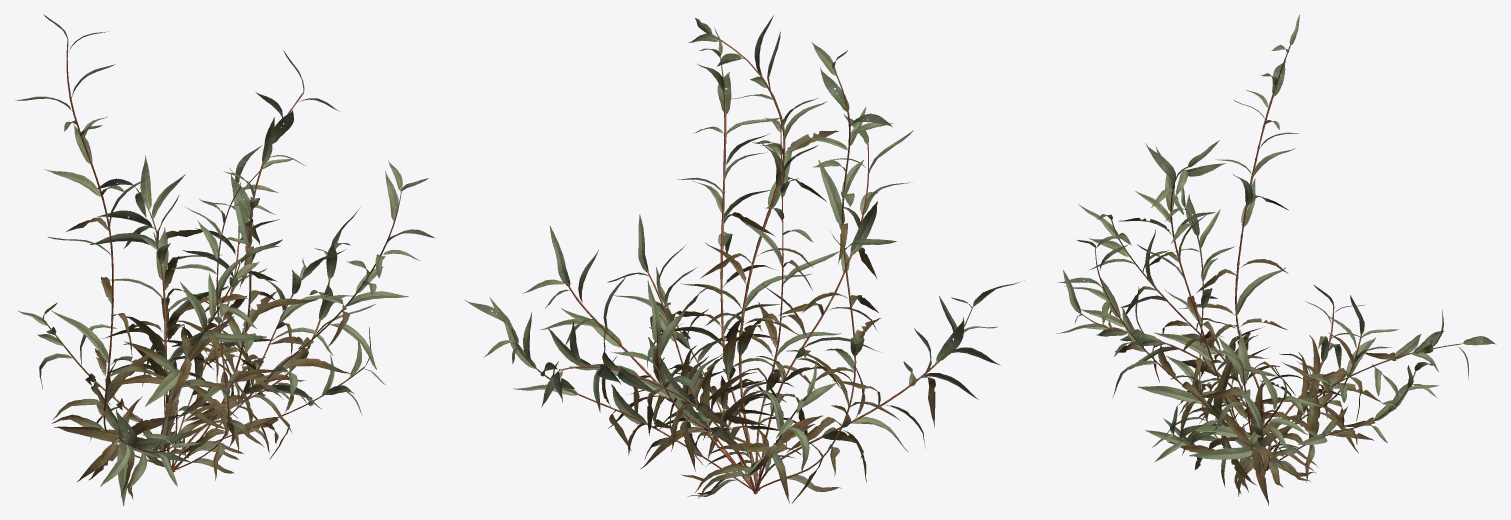
The model's file is shrubs.glb.
The picture shows the model from 3 angles, left to right: view 1: azimuth 30°, elevation 25°; view 2: azimuth 150°, elevation 25°; view 3: azimuth 270°, elevation 25°; orthographic projection. The views are drawn at different scales.
Parts seen in each view (by area): view 1: shrub_02_a, shrub_02_b, shrub_02_d; view 2: shrub_02_a, shrub_02_b, shrub_02_d; view 3: shrub_02_a, shrub_02_b, shrub_02_d.
Boxes of the visible parts, x1,y1,x2,y2 form: shrub_02_a: (15, 14, 434, 499); shrub_02_b: (54, 50, 346, 505); shrub_02_d: (18, 145, 385, 480); shrub_02_a: (522, 27, 913, 494); shrub_02_b: (607, 15, 1024, 503); shrub_02_d: (465, 108, 841, 503); shrub_02_a: (1057, 14, 1496, 505); shrub_02_b: (1056, 140, 1398, 486); shrub_02_d: (1145, 187, 1438, 493).
Bounding box in the file's own units: 1.32 × 1.7 × 1.64.
1 material, 1 textured.
